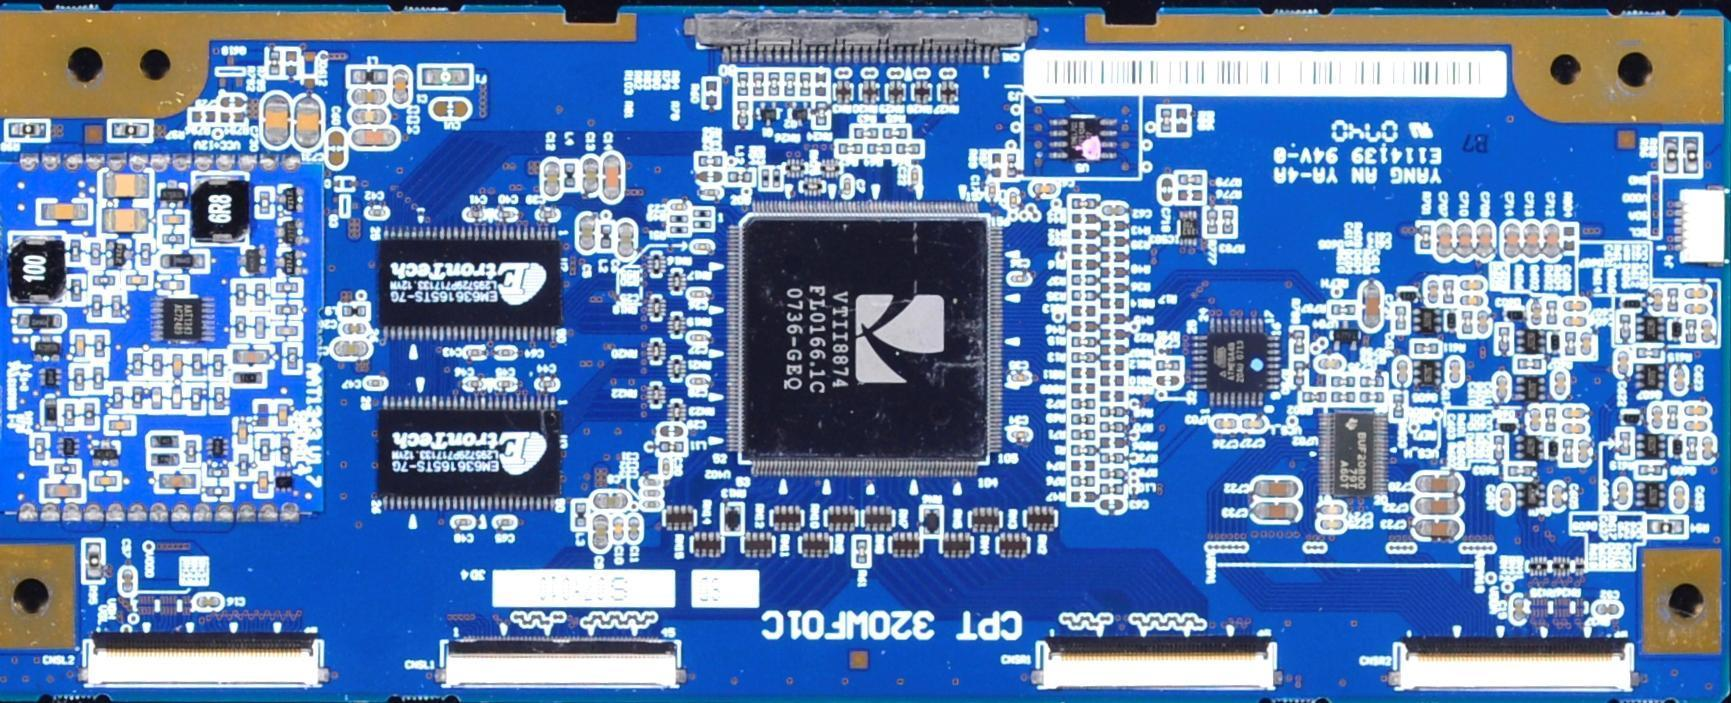Capacitor: (35, 197, 95, 224), (101, 171, 154, 200), (295, 90, 321, 147), (263, 95, 290, 148), (1251, 499, 1302, 525), (1412, 514, 1463, 541), (104, 208, 153, 234), (1412, 469, 1460, 494), (1361, 281, 1386, 330), (1412, 492, 1461, 514), (1250, 477, 1300, 498), (614, 217, 638, 258), (352, 124, 398, 145), (155, 472, 203, 492), (40, 483, 90, 502), (605, 153, 624, 200), (1524, 218, 1544, 258), (332, 338, 371, 359), (393, 66, 413, 105), (594, 488, 630, 509), (1457, 217, 1475, 260), (1667, 364, 1690, 396), (589, 514, 611, 550), (192, 593, 227, 614), (103, 415, 136, 437), (1477, 214, 1495, 255), (1437, 220, 1455, 260), (1505, 221, 1523, 258), (542, 161, 562, 196), (579, 213, 596, 253), (1547, 218, 1564, 258), (584, 156, 600, 196), (1492, 370, 1514, 402), (1210, 410, 1239, 434), (235, 346, 268, 366), (626, 513, 646, 546), (87, 471, 121, 490), (1392, 357, 1412, 388), (1699, 432, 1719, 463), (1561, 294, 1594, 312), (354, 87, 388, 106), (1612, 477, 1632, 508), (1509, 592, 1529, 622), (1316, 354, 1348, 373), (1561, 402, 1592, 421), (1448, 354, 1466, 386), (119, 565, 137, 597), (354, 107, 391, 123), (1648, 403, 1667, 433), (490, 513, 520, 532), (1524, 406, 1544, 433), (1649, 285, 1667, 316), (1242, 413, 1266, 435), (1497, 483, 1514, 515), (1564, 311, 1592, 330), (1032, 181, 1061, 199), (1595, 600, 1622, 619), (255, 465, 271, 497), (1617, 350, 1634, 380), (1174, 106, 1191, 133), (338, 320, 369, 336), (1685, 283, 1710, 301), (1579, 330, 1595, 359), (1177, 188, 1207, 203), (1556, 369, 1571, 398), (987, 150, 1003, 178), (463, 206, 490, 223), (124, 273, 151, 289), (1673, 482, 1689, 510), (1460, 275, 1486, 293), (276, 400, 291, 428), (1561, 418, 1590, 434), (161, 211, 188, 227), (1550, 482, 1568, 507), (1530, 296, 1545, 323), (657, 423, 684, 438), (1102, 203, 1130, 217), (1686, 401, 1709, 418), (1576, 437, 1592, 463), (659, 453, 673, 480), (1702, 316, 1716, 345), (534, 205, 560, 221), (637, 496, 662, 511), (234, 420, 250, 445), (536, 374, 558, 392), (1160, 174, 1174, 202), (494, 206, 520, 220), (450, 516, 477, 530), (1427, 279, 1442, 304), (1686, 417, 1710, 432), (74, 331, 87, 357), (173, 351, 185, 378), (614, 513, 625, 543), (910, 163, 923, 188), (1689, 301, 1711, 316), (690, 240, 715, 252), (1479, 307, 1491, 332), (691, 287, 712, 301), (688, 331, 711, 343), (463, 378, 488, 390), (1462, 291, 1484, 303), (495, 346, 517, 359), (686, 375, 710, 386), (986, 180, 998, 201), (464, 347, 485, 359), (641, 476, 662, 488), (494, 377, 516, 389), (640, 487, 665, 497), (668, 201, 689, 212), (1008, 188, 1018, 209)
Connector: (1386, 632, 1642, 699), (1025, 630, 1288, 694), (83, 629, 338, 694), (432, 640, 689, 689)
Resistor: (5, 120, 50, 145), (114, 116, 152, 143), (83, 540, 107, 583), (1647, 516, 1688, 539), (1503, 460, 1538, 482), (1390, 300, 1411, 337), (1634, 458, 1667, 480), (1616, 308, 1636, 344), (254, 186, 276, 219), (273, 276, 305, 298), (277, 316, 302, 343), (186, 383, 208, 414), (1390, 390, 1410, 424), (1407, 339, 1445, 356), (283, 343, 303, 376), (1615, 426, 1636, 457), (234, 449, 253, 483), (1494, 323, 1514, 355), (51, 458, 84, 477), (129, 347, 147, 381), (1157, 104, 1176, 136), (71, 362, 89, 394), (1102, 260, 1132, 280), (230, 280, 249, 310), (107, 381, 127, 410), (1633, 344, 1666, 362), (1513, 355, 1544, 374), (1490, 431, 1509, 462), (277, 435, 295, 467), (694, 151, 727, 168), (1223, 205, 1240, 238), (735, 99, 753, 130), (1067, 427, 1098, 445), (204, 463, 235, 481), (1328, 300, 1360, 317), (186, 435, 202, 467), (267, 47, 284, 79), (1066, 441, 1096, 459), (159, 231, 190, 247), (1071, 240, 1102, 256), (1067, 411, 1098, 427), (1683, 433, 1699, 466), (837, 138, 866, 156), (275, 298, 300, 318), (1067, 224, 1099, 240), (1176, 170, 1206, 187), (1292, 327, 1308, 357), (1293, 359, 1309, 389), (1070, 489, 1099, 505), (765, 71, 782, 100), (1545, 298, 1563, 326), (204, 482, 232, 500), (189, 349, 204, 380), (735, 69, 751, 100), (1102, 291, 1127, 310), (1361, 371, 1387, 390), (726, 169, 755, 185), (149, 351, 166, 380), (1299, 388, 1328, 405), (131, 383, 148, 412), (80, 398, 96, 427), (1102, 232, 1128, 249), (1204, 207, 1220, 237), (1683, 317, 1699, 346), (1068, 381, 1097, 396), (1068, 396, 1097, 412), (1152, 357, 1185, 371), (161, 276, 186, 295), (90, 272, 116, 289), (1099, 462, 1125, 480), (852, 125, 881, 140), (862, 140, 893, 155), (1069, 211, 1100, 225), (1072, 257, 1101, 273), (90, 290, 105, 321), (215, 382, 230, 413), (1072, 471, 1098, 488), (1562, 331, 1578, 359), (1099, 403, 1127, 418), (1566, 224, 1580, 256), (151, 381, 164, 413), (896, 140, 922, 157), (1071, 273, 1100, 287), (235, 312, 249, 341), (255, 312, 269, 341), (1070, 334, 1098, 349), (1071, 349, 1100, 363), (881, 127, 912, 140), (254, 278, 269, 305), (1545, 407, 1561, 434), (34, 431, 48, 462), (209, 355, 225, 380), (172, 381, 184, 414), (1668, 404, 1685, 428), (70, 276, 84, 304), (1461, 310, 1475, 338), (1330, 374, 1358, 389), (1331, 392, 1359, 406), (1100, 418, 1127, 433), (1099, 279, 1129, 293), (92, 362, 105, 392), (1102, 341, 1127, 357), (1103, 246, 1126, 263), (1070, 197, 1098, 211), (1102, 218, 1131, 232), (1072, 302, 1098, 317), (1099, 312, 1128, 326), (657, 439, 686, 453), (1100, 450, 1126, 465), (699, 185, 723, 201), (1006, 151, 1019, 179), (94, 332, 107, 360), (799, 70, 812, 97), (786, 69, 799, 97), (63, 404, 77, 429), (1072, 288, 1098, 301), (90, 240, 103, 268), (1072, 321, 1101, 333), (111, 290, 123, 321), (1100, 387, 1122, 403), (1564, 436, 1575, 467), (1101, 357, 1126, 370), (1669, 284, 1681, 311), (1157, 376, 1185, 389), (262, 434, 274, 461), (694, 203, 715, 218), (1101, 479, 1122, 494), (71, 237, 82, 266), (1106, 328, 1128, 342), (140, 245, 153, 268), (753, 70, 764, 97), (1103, 372, 1124, 386), (1361, 392, 1386, 404), (1074, 365, 1096, 379), (771, 168, 783, 191), (1072, 462, 1099, 472), (843, 173, 854, 198), (669, 223, 689, 236), (761, 168, 772, 189), (693, 219, 714, 230), (671, 214, 691, 225), (363, 205, 364, 206)
